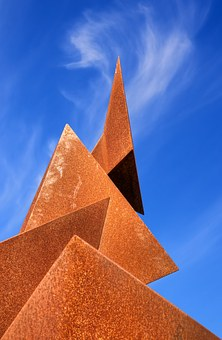rust: (25, 123, 178, 337), (100, 56, 140, 122), (1, 221, 23, 339), (181, 312, 220, 340)
